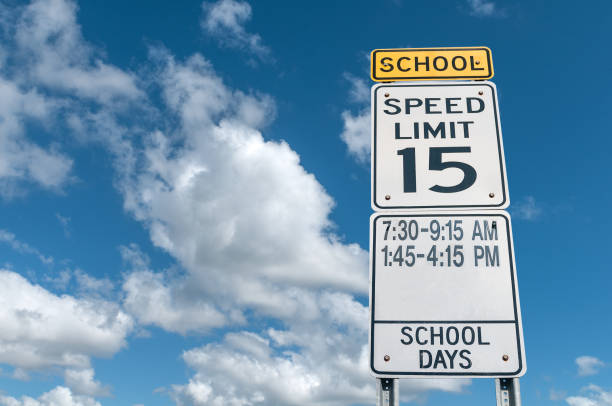SpeedLimitSign: (369, 80, 510, 208)
